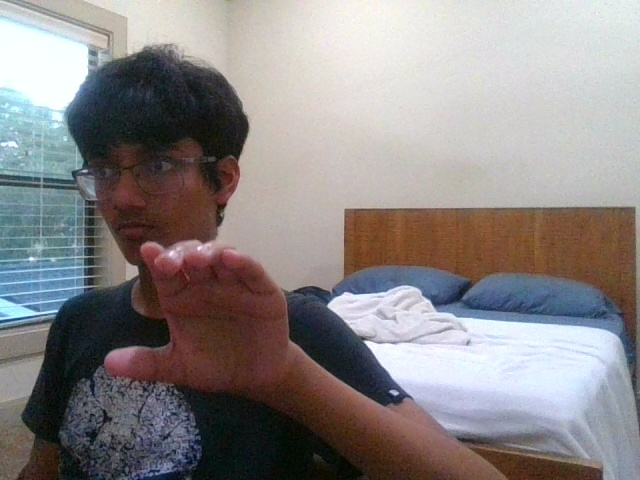no: (105, 241, 289, 394)
